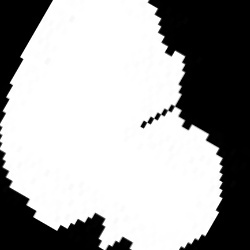spot: (0, 1, 222, 249)
